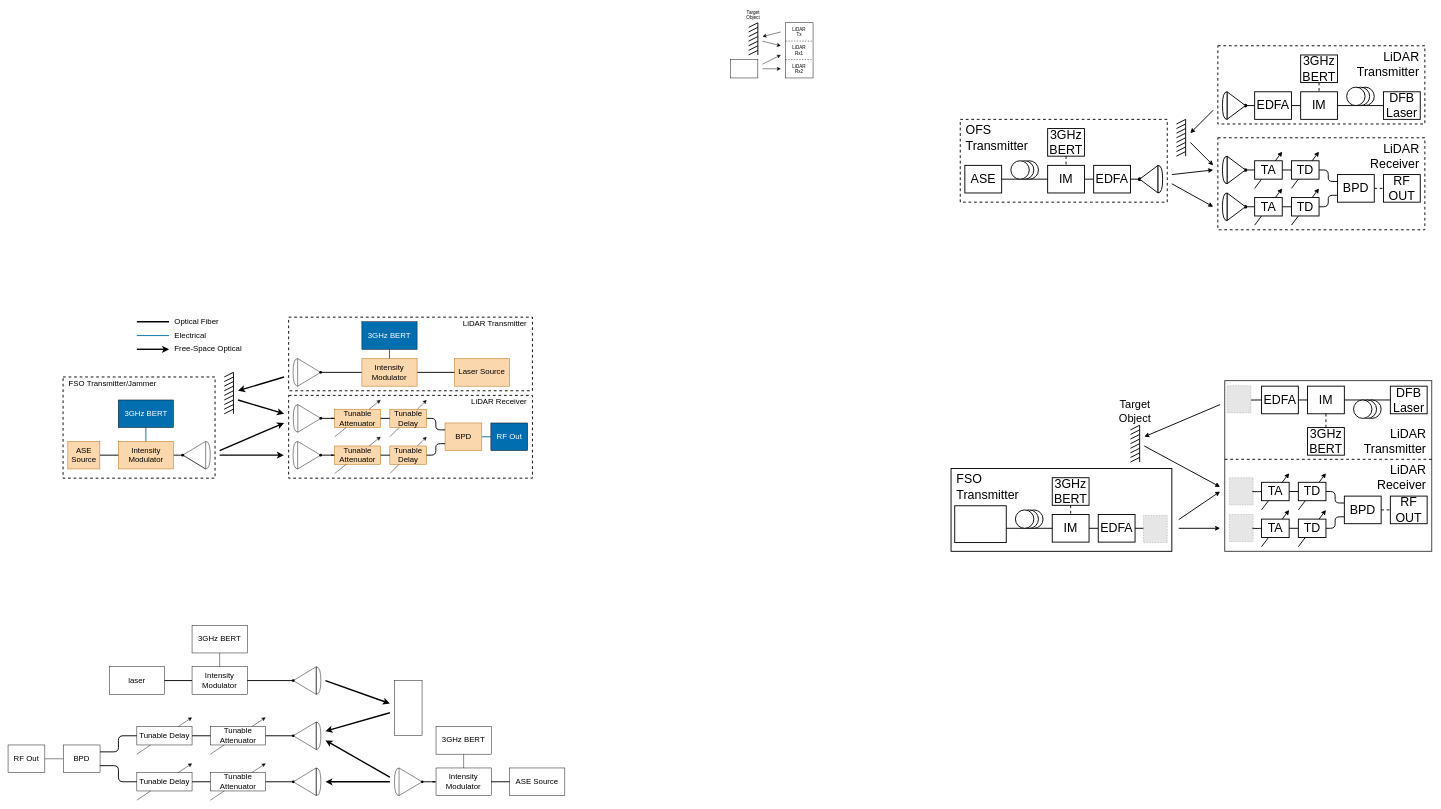
The diagram is 1441 pixels wide and 809 high, and some of its shapes have lost their labels. Grey dashed boxes stand in for pictures. The shapes that lost their labels are listed below. From the top down, each one's centre as x and y in pixels, then its label:
point (744, 68): FSO Tx
point (980, 524): Wideband Laser
point (408, 708): Mirror
